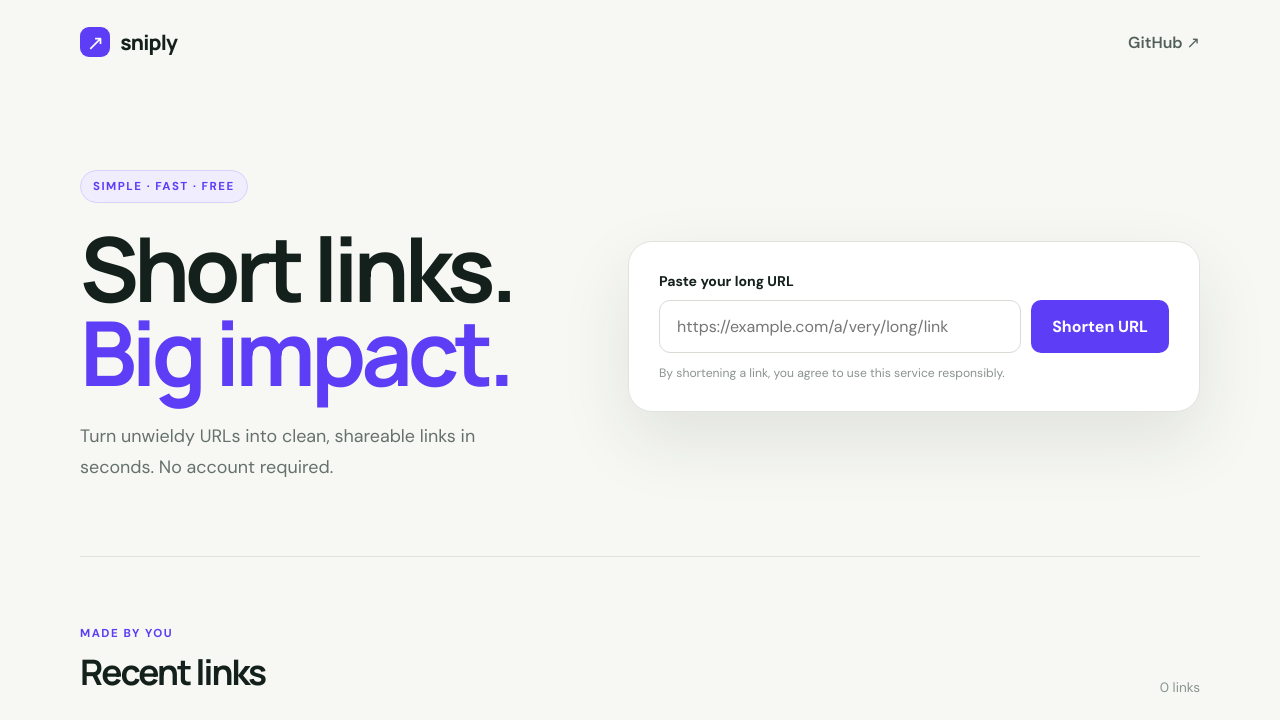
Test: App › validates a URL before submitting
Type "not-a-url" into the field labelled "Paste your long URL" at (840, 326), box left=659, top=300, right=1021, bottom=353
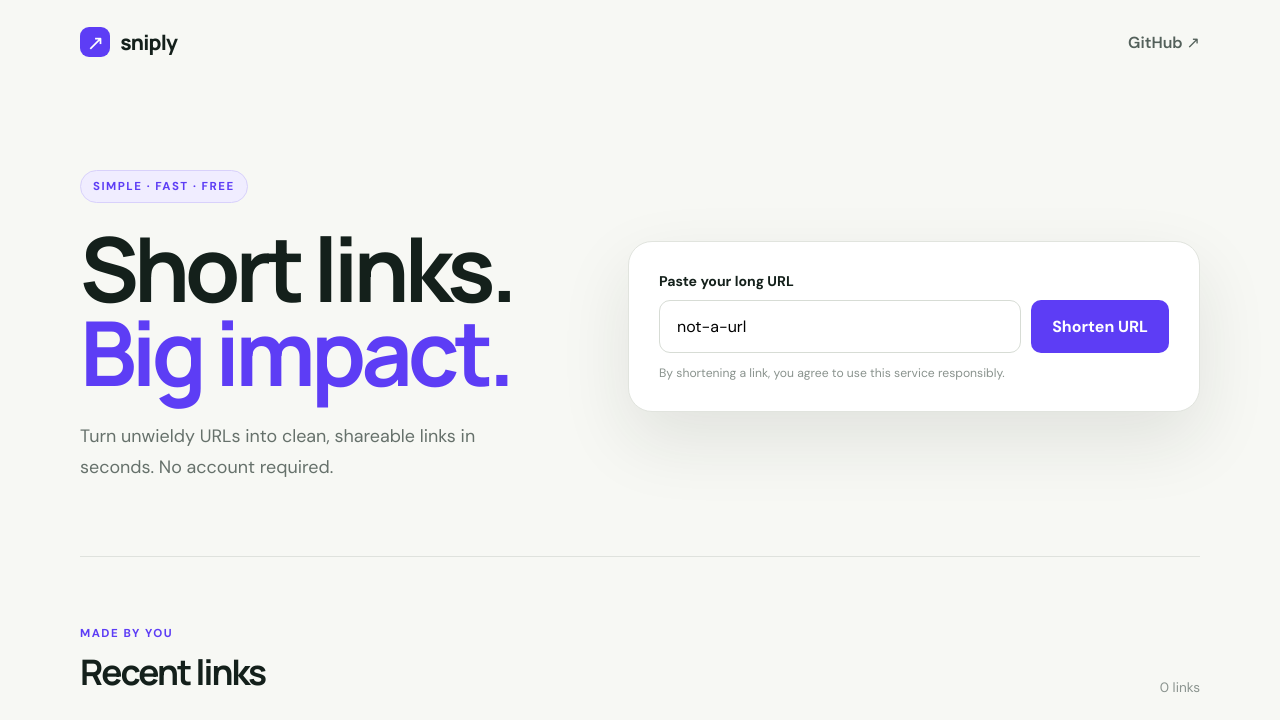
Click the button "Shorten URL" at (1100, 326), box left=1031, top=300, right=1169, bottom=353
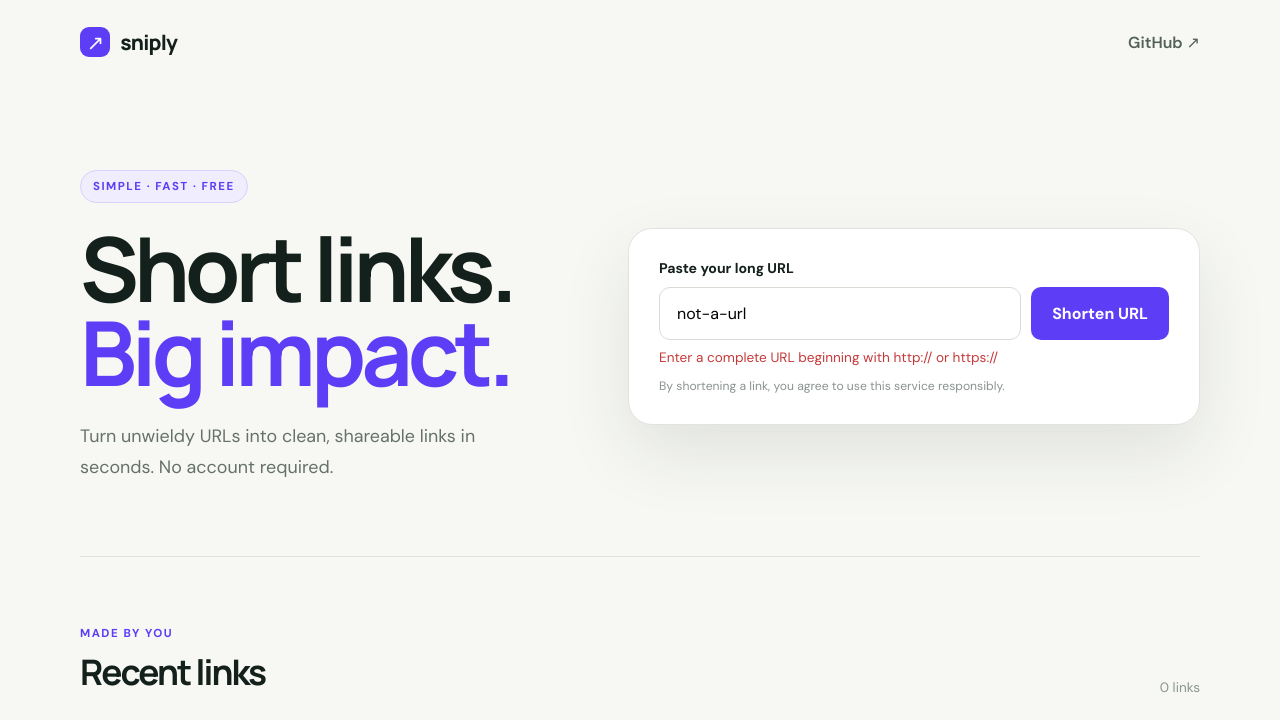
Result: the message shows "complete URL" at left=659, top=349, right=998, bottom=366
